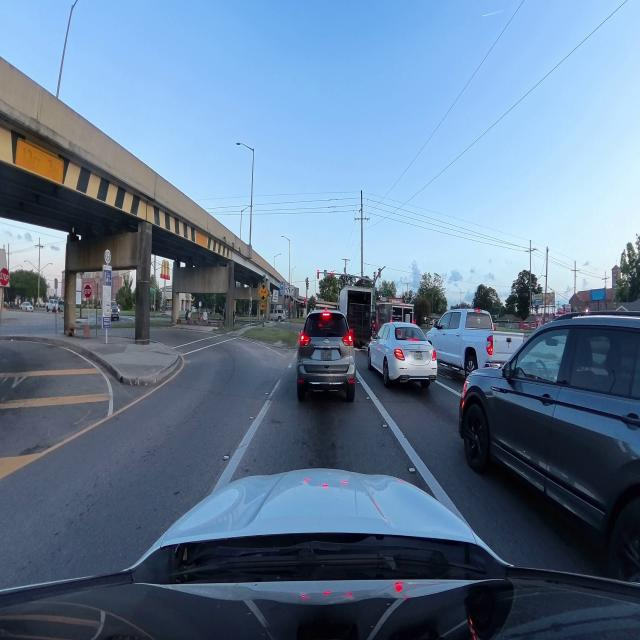car: (459, 312, 639, 581), (427, 309, 524, 376), (297, 310, 355, 401), (368, 323, 437, 387)
